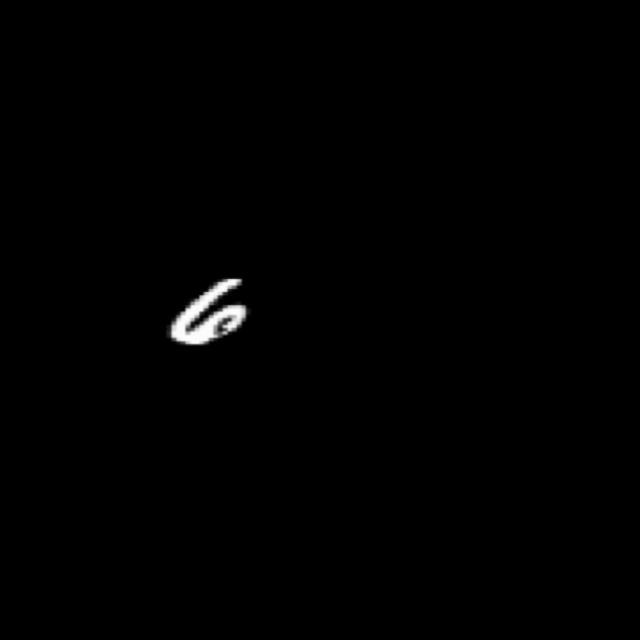six -6-: (166, 269, 256, 351)
